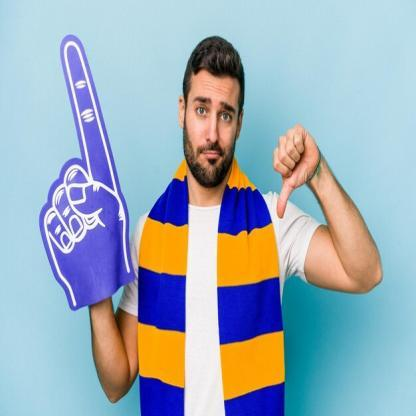thumb_down: (268, 120, 320, 222)
